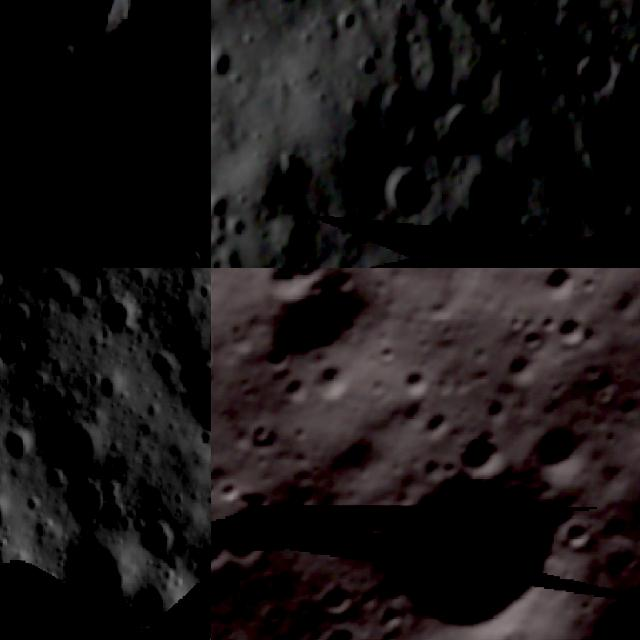crater: (344, 418, 607, 640), (247, 268, 394, 402), (40, 418, 117, 524), (562, 539, 640, 640), (520, 407, 605, 492), (145, 0, 211, 95), (34, 0, 146, 55), (97, 154, 172, 236), (442, 415, 516, 489), (211, 506, 284, 579), (44, 122, 117, 194), (248, 268, 337, 315), (456, 163, 527, 220), (545, 303, 607, 364), (378, 160, 438, 223), (428, 101, 493, 157), (308, 573, 364, 628), (386, 356, 439, 410), (525, 268, 591, 310), (557, 507, 608, 558), (312, 360, 361, 410), (135, 509, 178, 564), (498, 342, 546, 391), (211, 314, 237, 399), (414, 401, 459, 446), (314, 606, 372, 640), (573, 49, 616, 94), (370, 594, 415, 636), (182, 348, 211, 412), (211, 519, 239, 585), (494, 62, 530, 106), (0, 330, 40, 368), (8, 232, 48, 268), (272, 148, 306, 186), (211, 40, 237, 87), (334, 5, 371, 36), (354, 51, 380, 80), (497, 16, 518, 42), (228, 218, 249, 243), (416, 231, 439, 253), (242, 30, 266, 50), (211, 193, 233, 214), (294, 257, 322, 268), (211, 256, 225, 268)
